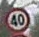limite 40: (3, 6, 31, 33)
